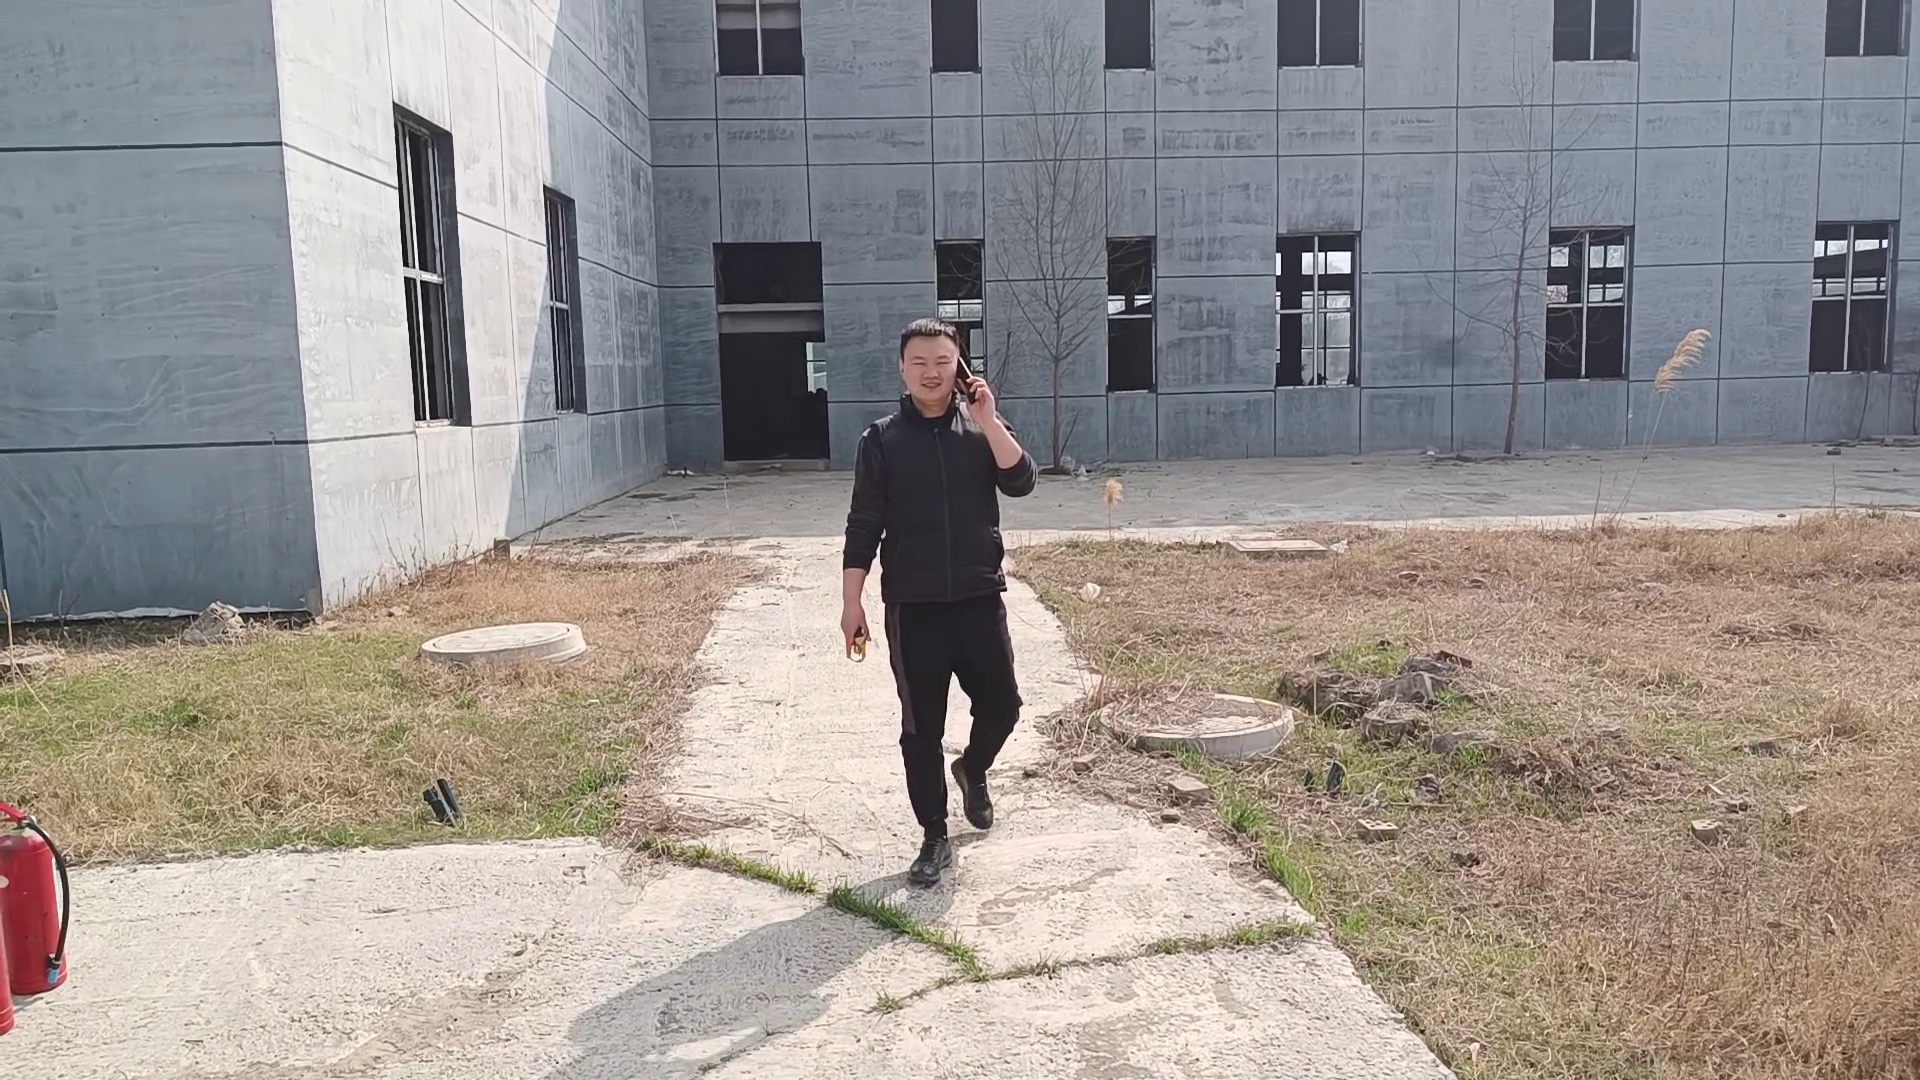phone: (899, 316, 980, 415)
